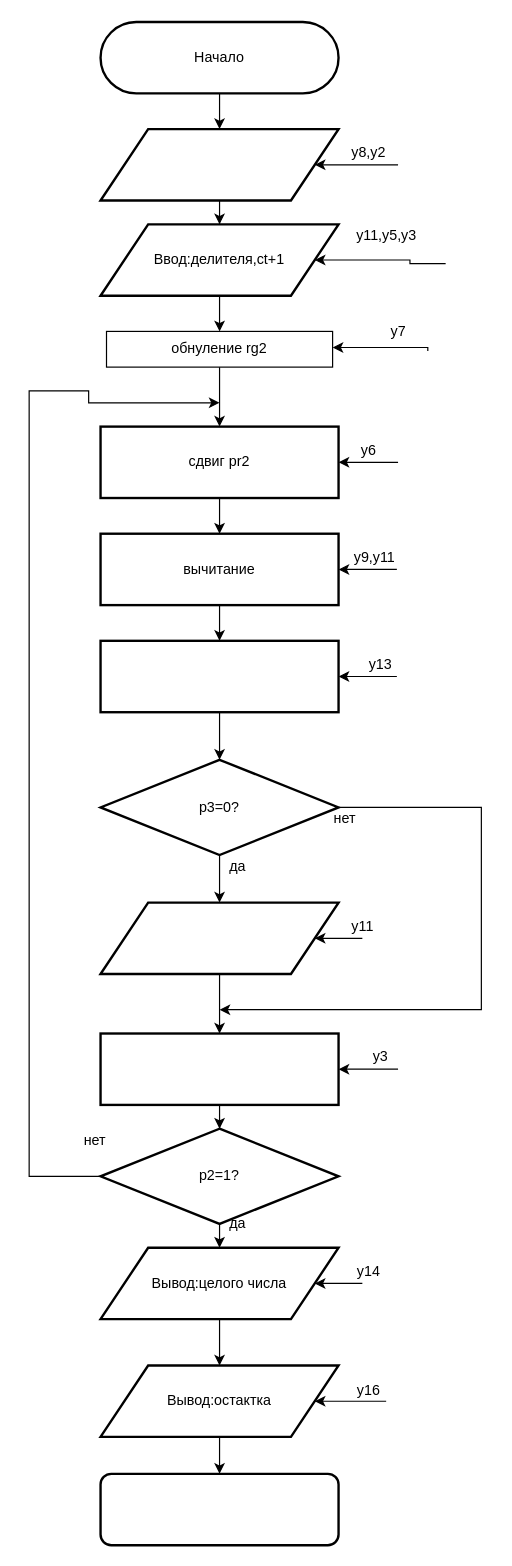
This 512x1566 diagram has some shape labels left out. Each missing label, with the box of its shape:
inc(CT1): (99, 1032, 339, 1106)
Ввод:делимого;ct: (99, 127, 339, 201)
запись в RG3: (99, 901, 339, 975)
Конец: (99, 1472, 339, 1546)
сдвиг pr5: (99, 639, 339, 713)
